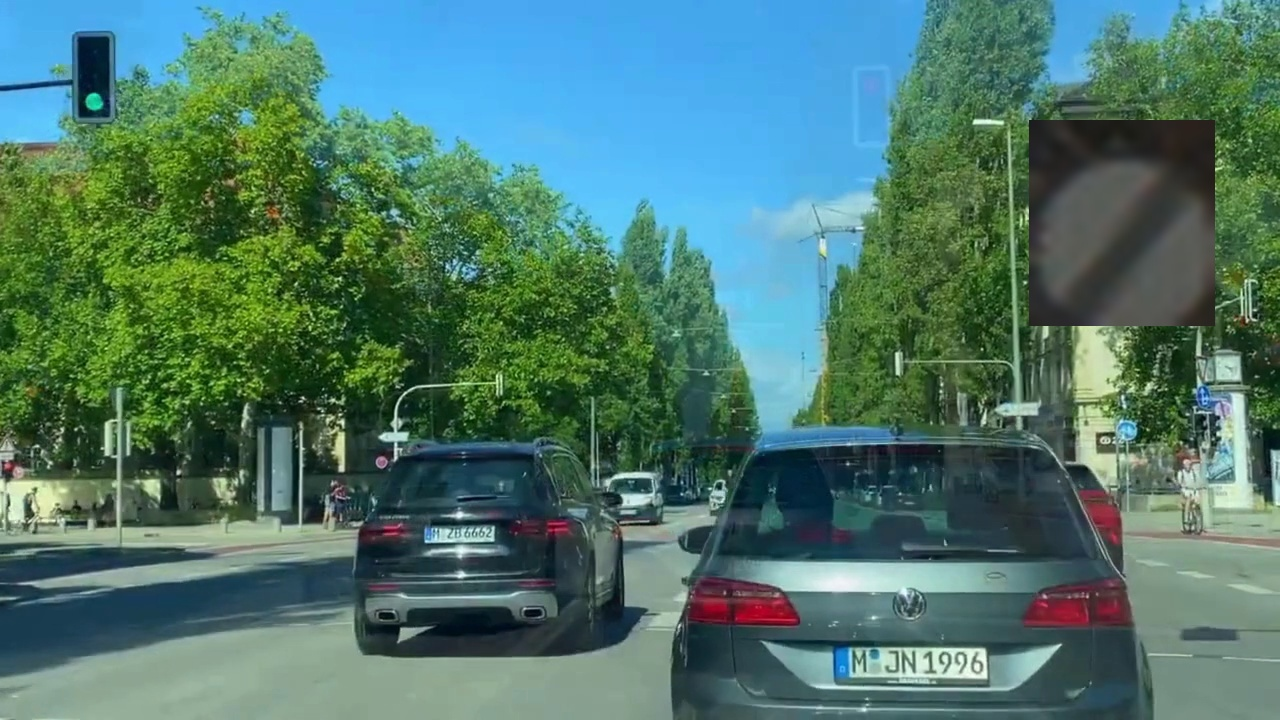End limits: (1029, 120, 1215, 326)
